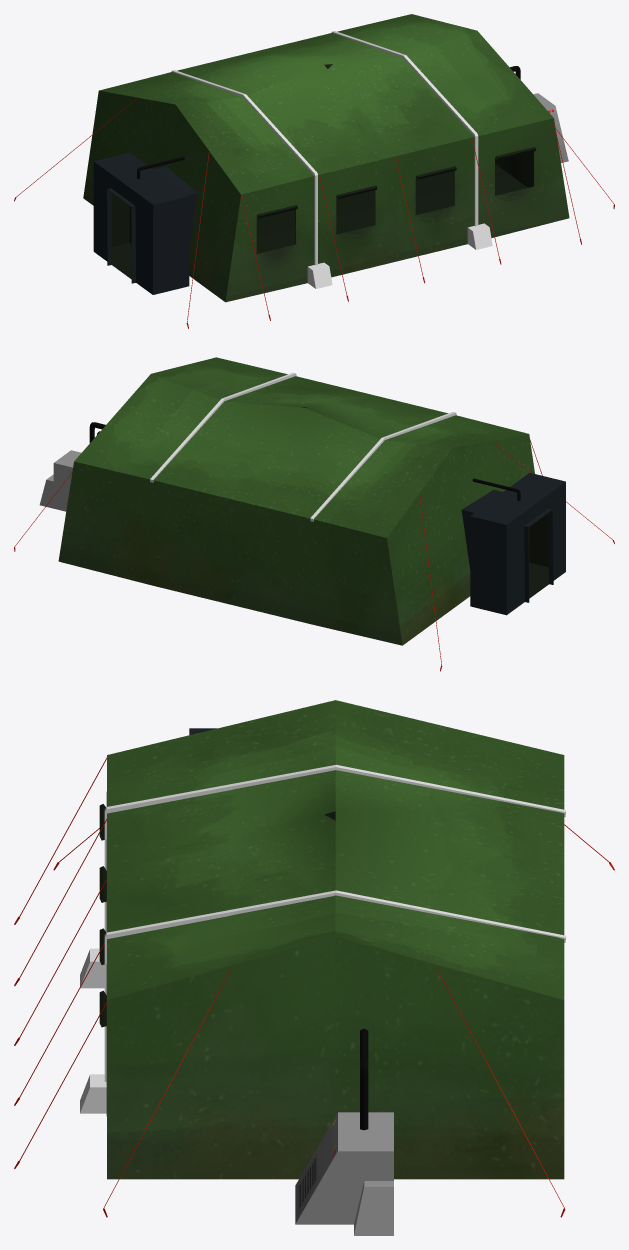
Rendered from QuarintineTent 1.FBX.
3 renders of one model, top to bottom at view 1: azimuth 30°, elevation 25°; view 2: azimuth 150°, elevation 25°; view 3: azimuth 270°, elevation 25°, orthographic. The views are drawn at different scales.
Visible parts, largest first — view 1: Tent_001, TentSupport_002, TentSupport_001, VentUnit_002; view 2: Tent_001, VentUnit_002, TentSupport_002, TentSupport_001; view 3: Tent_001, VentUnit_002, TentSupport_002, TentSupport_001, PipeOut_002.
Boxes of the visible parts, x1=… form: Tent_001: x1=83, y1=14, x2=569, y2=302; TentSupport_002: x1=331, y1=31, x2=492, y2=249; TentSupport_001: x1=171, y1=70, x2=332, y2=288; VentUnit_002: x1=533, y1=93, x2=568, y2=162; Tent_001: x1=58, y1=357, x2=565, y2=645; VentUnit_002: x1=39, y1=450, x2=81, y2=511; TentSupport_002: x1=150, y1=372, x2=296, y2=482; TentSupport_001: x1=310, y1=412, x2=456, y2=521; Tent_001: x1=99, y1=700, x2=564, y2=1179; VentUnit_002: x1=295, y1=1112, x2=393, y2=1235; TentSupport_002: x1=80, y1=890, x2=566, y2=1113; TentSupport_001: x1=80, y1=764, x2=566, y2=988; PipeOut_002: x1=360, y1=1028, x2=368, y2=1130.
Size of the model in its own units: 863 by 257 by 595.
Materials: 4 (2 with a texture image).
